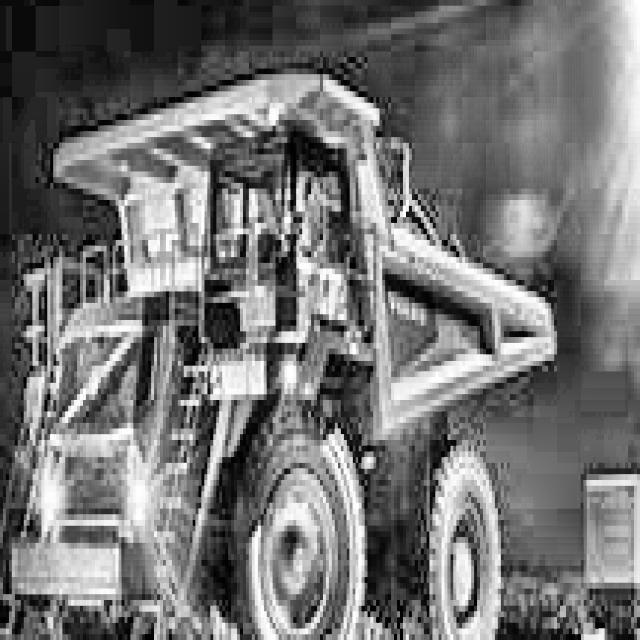dump_truck: (0, 57, 554, 640)
